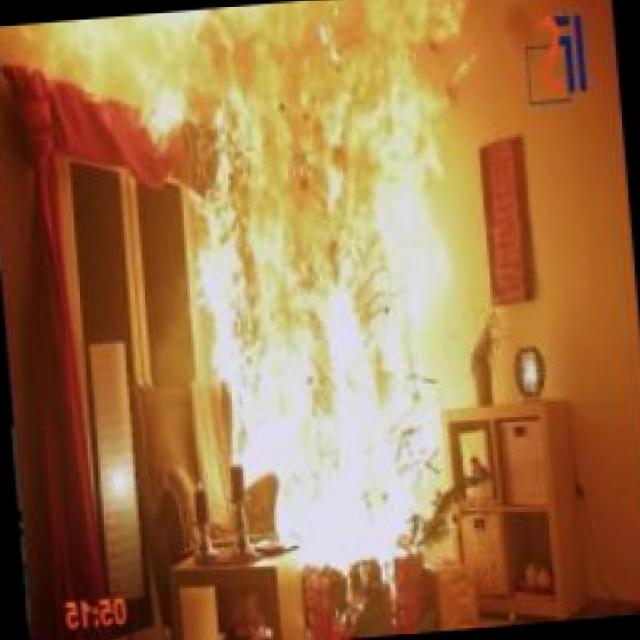fire: (109, 0, 534, 595)
